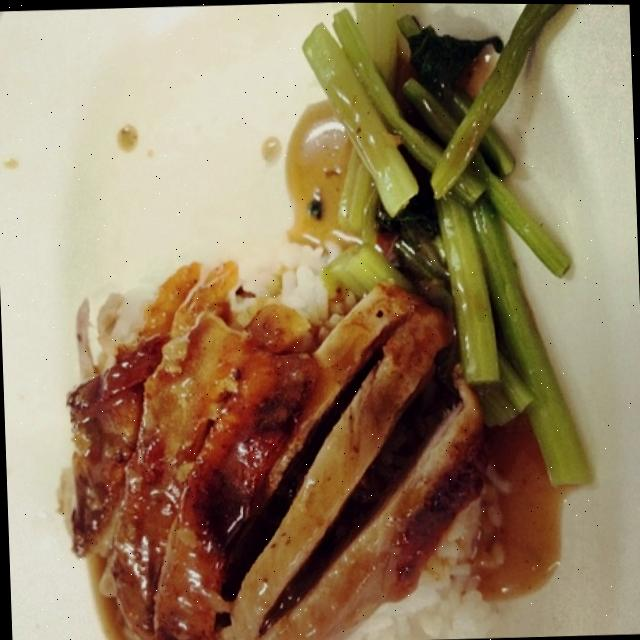米饭主食: (14, 0, 599, 640)
